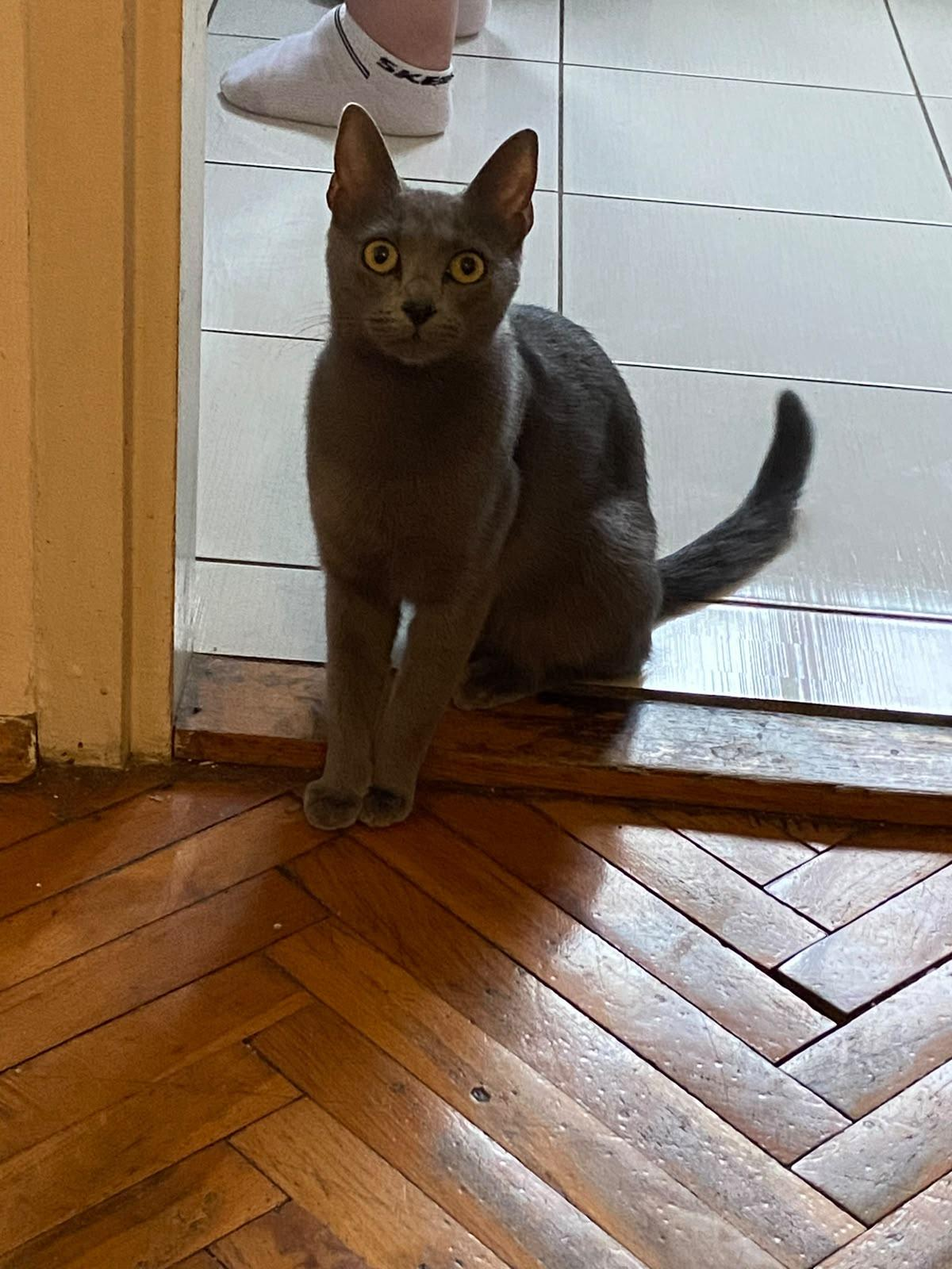macka: (299, 106, 817, 836)
